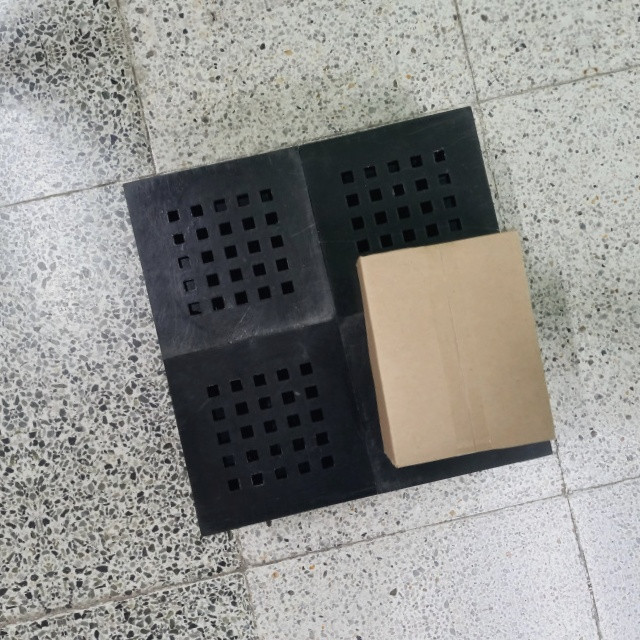box: (353, 225, 559, 473)
pallet: (93, 103, 568, 563)
